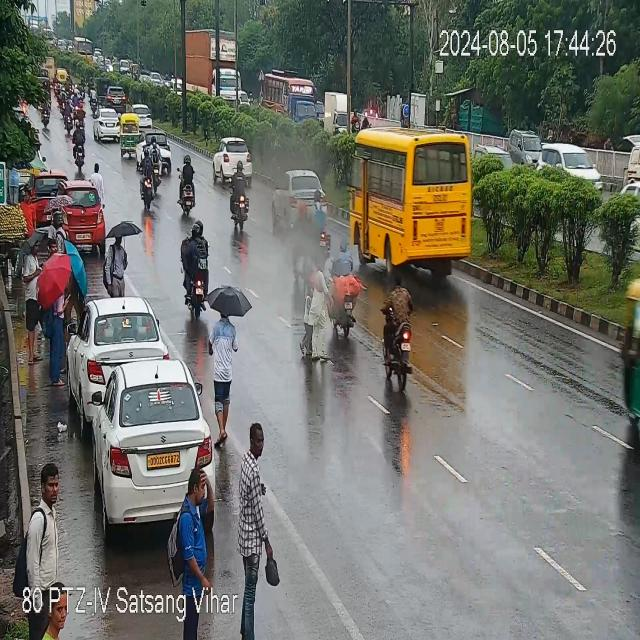2-wheelers: (383, 276, 414, 388), (182, 218, 210, 323), (333, 237, 357, 340), (135, 139, 168, 210), (289, 188, 311, 274), (224, 173, 252, 234), (174, 153, 200, 216), (55, 76, 86, 122), (66, 124, 95, 172), (310, 188, 328, 262), (40, 97, 50, 129), (90, 85, 97, 116)
auto: (616, 267, 640, 445), (121, 114, 141, 156)
bus: (354, 117, 479, 275)
car: (88, 366, 208, 530), (71, 294, 166, 402), (268, 164, 328, 215), (542, 138, 606, 180), (64, 188, 107, 247), (212, 135, 255, 182), (94, 106, 125, 142), (626, 147, 640, 200), (105, 85, 128, 108)
pedestrian: (240, 417, 274, 640), (21, 467, 63, 623), (178, 465, 213, 635), (210, 303, 242, 447), (298, 256, 326, 366), (46, 274, 66, 393), (37, 581, 76, 640), (25, 232, 37, 348), (109, 223, 125, 296), (50, 208, 66, 250), (91, 162, 107, 204), (22, 187, 35, 230)
